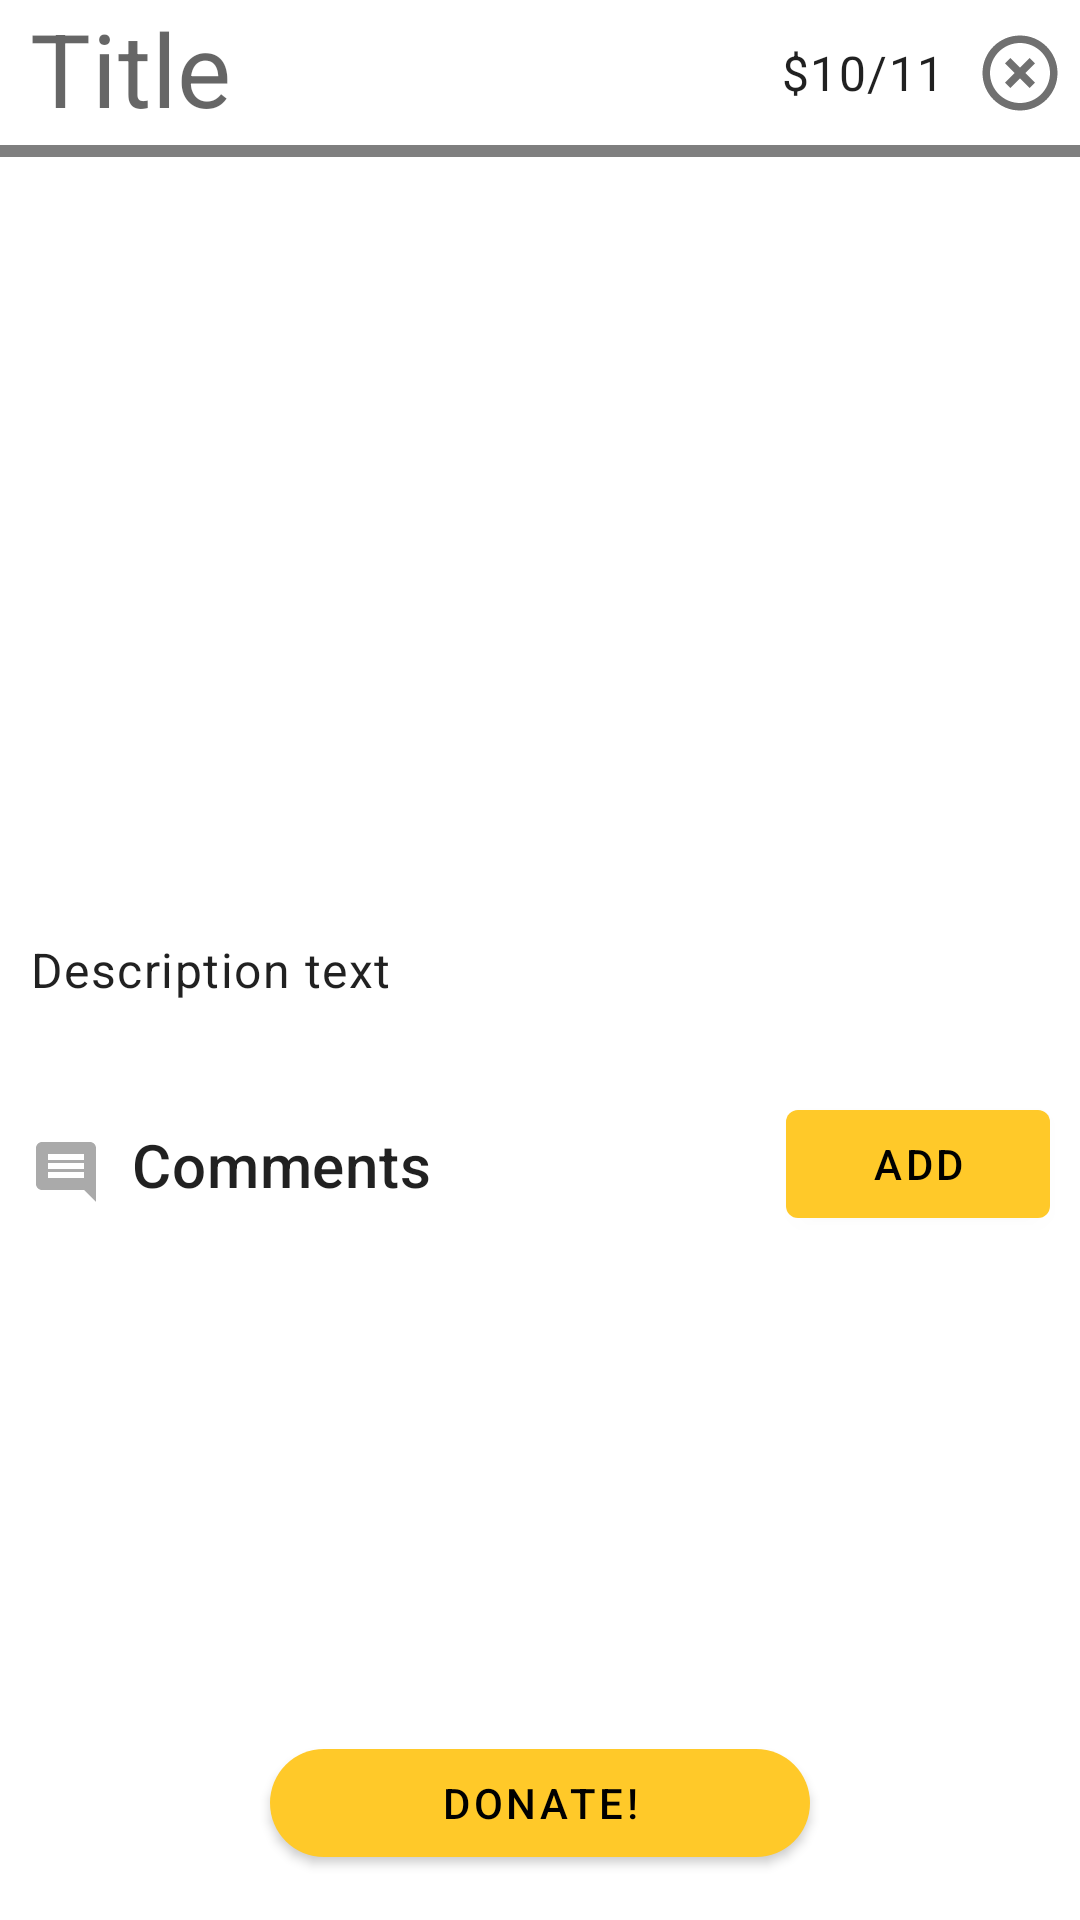

Screen size 1080*1920. Icon name, then its box in pixels as [x1, y1, x2, y2]:
highlight off: [982, 35, 1058, 111]
